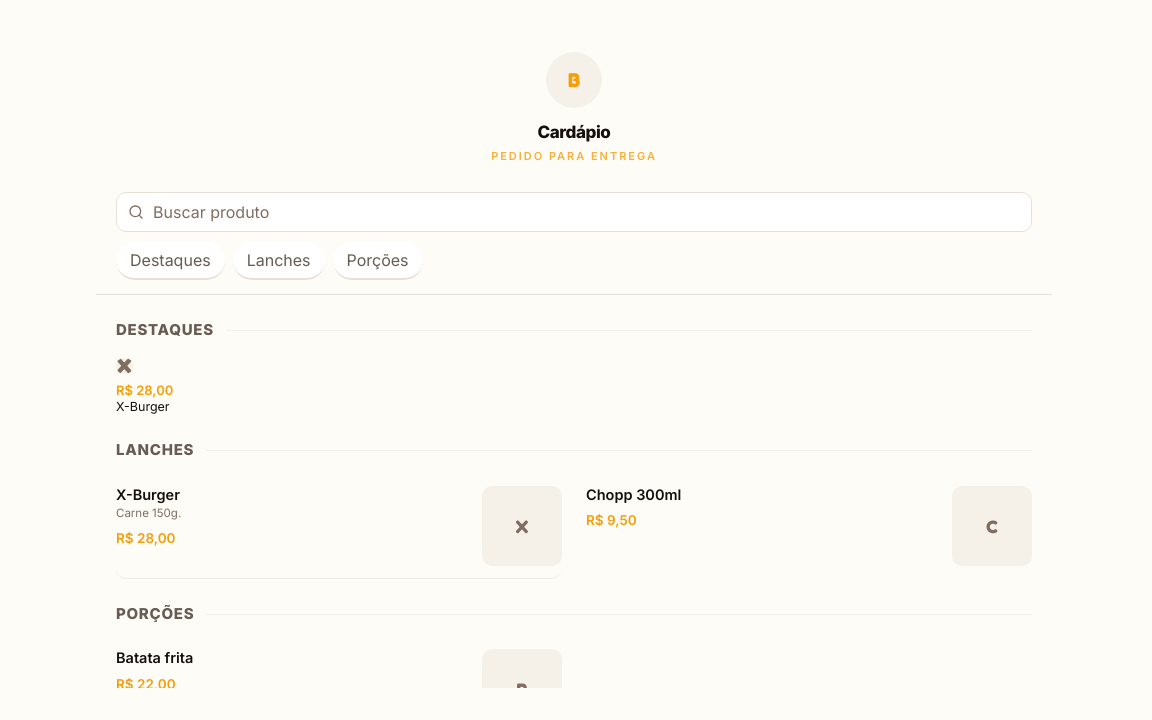
CustomerMenuPage (layout de loja) › O mesmo produto em destaque é alcançável em vitrine e na categoria
Click the button with aria-label "Ver X-Burger": click(145, 390) [116, 358, 413, 416]
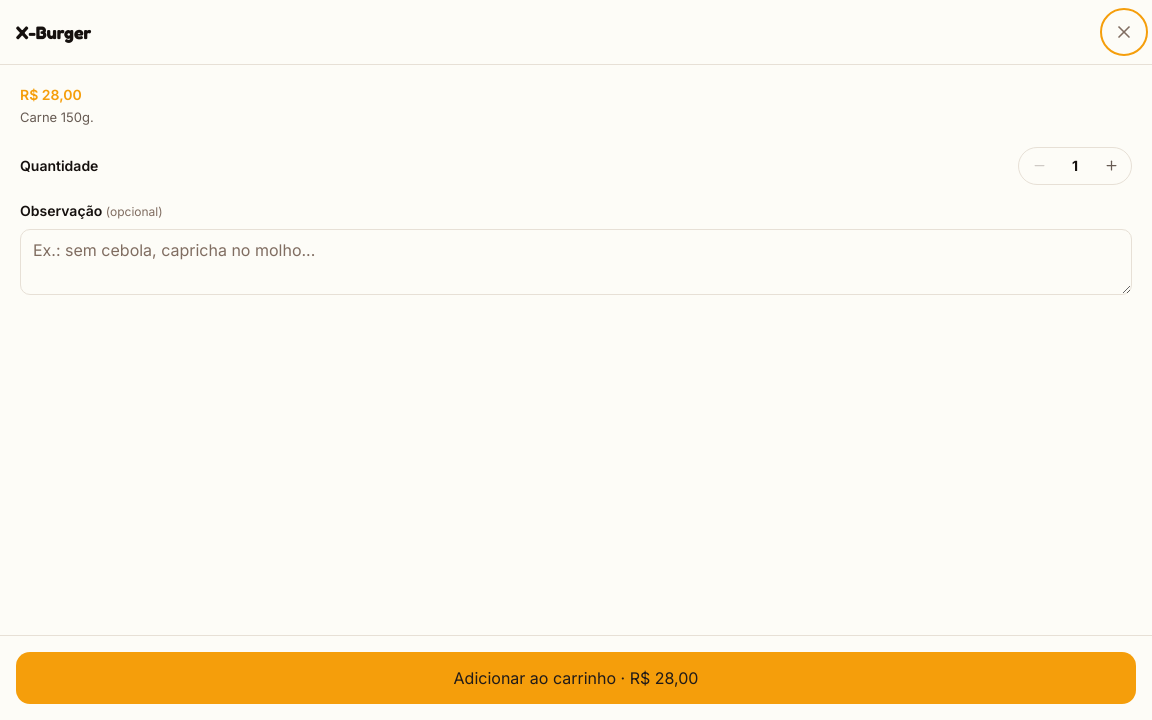
Expected: the dialog is shown
Click the text "Adicionar ao carrinho": click(535, 678) [454, 668, 616, 688]
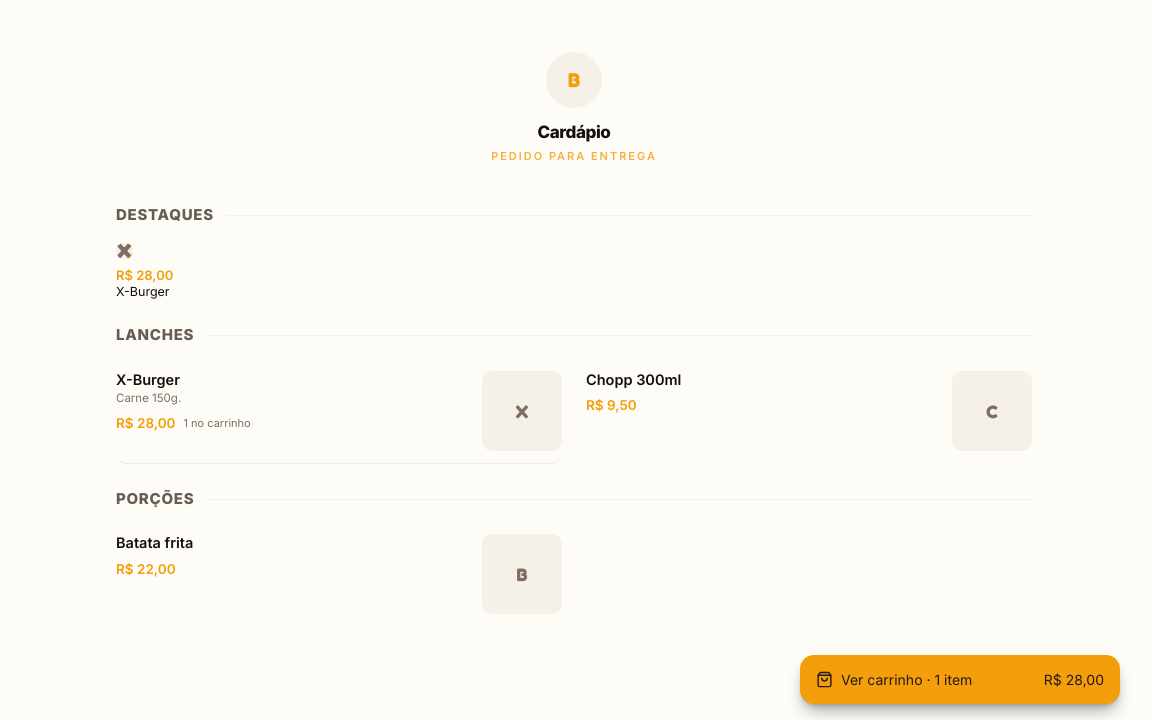
Expected: the text "1 no carrinho" is shown 2 times
Click the button with aria-label "Ver X-Burger": click(148, 379) [116, 371, 470, 433]
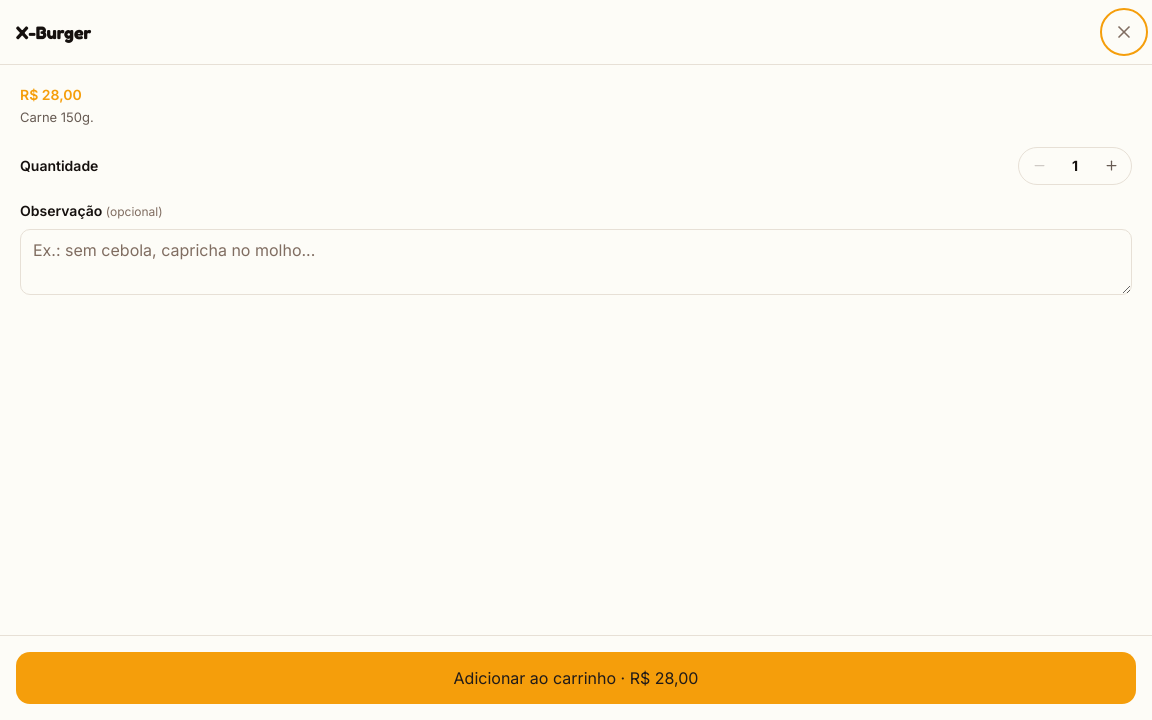
Expected: the dialog is shown
Expected: the text "Adicionar ao carrinho" is shown, [454, 668, 616, 688]
